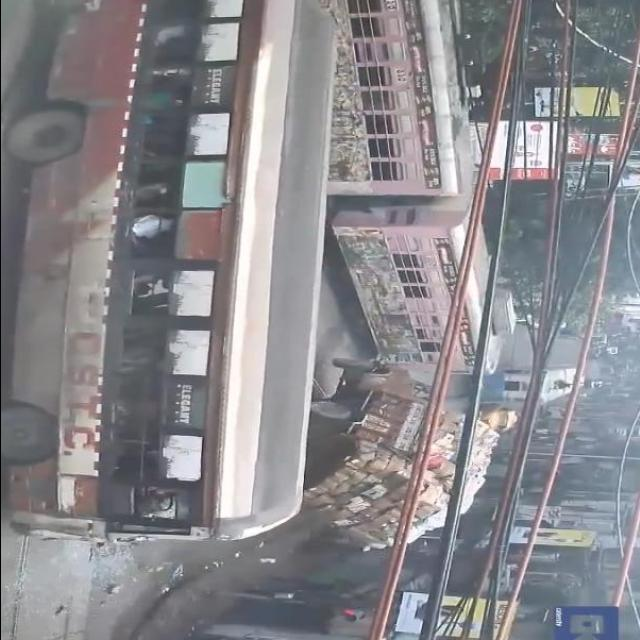accident: (294, 353, 534, 545)
